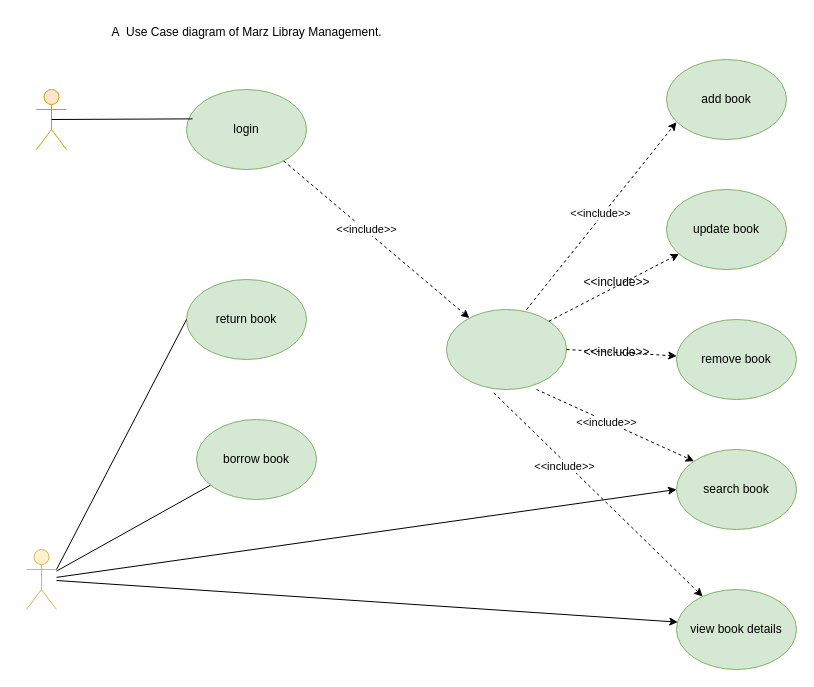
Image size: 814x687. Some labels were removed from this diagram. Each missing label, with the centre of its shape:
Borrower: the point at 41,579
Librarian: the point at 51,119
manage all books: the point at 506,349
